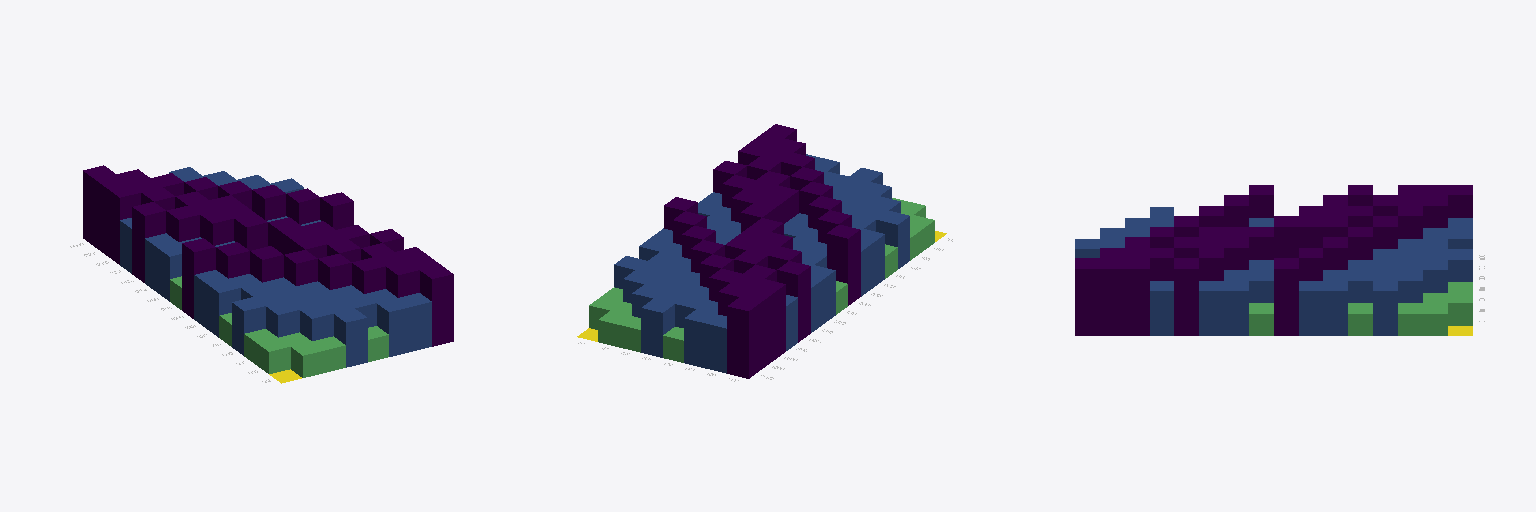
3 views of the same model, side by side, from view 1: azimuth 30°, elevation 25°; view 2: azimuth 150°, elevation 25°; view 3: azimuth 270°, elevation 25° (orthographic).
Parts seen in each view (by area): view 1: Object(8,16)[length_3], Object(1,5)[length_3], Object(1,9)[length_3], Object(6,16)[length_2], Object(4,16)[length_2], Object(1,3)[length_3], Object(1,13)[length_2], Object(7,16)[length_2], Object(1,11)[length_2], Object(1,7)[length_2], Object(1,1)[length_3], Object(1,2)[length_3] (+26 smaller); view 2: Object(1,1)[length_3], Object(1,9)[length_3], Object(5,1)[length_2], Object(1,5)[length_3], Object(3,1)[length_2], Object(1,13)[length_2], Object(1,2)[length_3], Object(2,1)[length_2], Object(1,3)[length_3], Object(1,7)[length_2], Object(7,1)[length_1], Object(1,11)[length_2] (+28 smaller); view 3: Object(8,8)[length_3], Object(8,12)[length_3], Object(8,14)[length_3], Object(8,15)[length_3], Object(8,16)[length_3], Object(8,4)[length_2], Object(8,6)[length_2], Object(8,10)[length_2], Object(8,11)[length_2], Object(8,7)[length_2], Object(8,13)[length_2], Object(4,8)[length_3] (+28 smaller).
Boxes of the visible parts, <box> form: Object(8,16)[length_3]: <box>420,265,453,346</box>; Object(1,5)[length_3]: <box>132,202,165,282</box>; Object(1,9)[length_3]: <box>182,238,215,318</box>; Object(6,16)[length_2]: <box>377,298,410,356</box>; Object(4,16)[length_2]: <box>334,309,367,367</box>; Object(1,3)[length_3]: <box>107,184,140,264</box>; Object(1,13)[length_2]: <box>232,297,265,355</box>; Object(7,16)[length_2]: <box>399,293,431,351</box>; Object(1,11)[length_2]: <box>207,279,240,337</box>; Object(1,7)[length_2]: <box>157,242,181,301</box>; Object(1,1)[length_3]: <box>83,165,115,246</box>; Object(1,2)[length_3]: <box>95,174,128,255</box>; Object(1,1)[length_3]: <box>727,297,760,378</box>; Object(1,9)[length_3]: <box>827,225,860,305</box>; Object(5,1)[length_2]: <box>641,299,674,357</box>; Object(1,5)[length_3]: <box>777,261,810,342</box>; Object(3,1)[length_2]: <box>684,309,717,368</box>; Object(1,13)[length_2]: <box>876,211,909,268</box>; Object(1,2)[length_3]: <box>741,288,773,369</box>; Object(2,1)[length_2]: <box>706,315,726,373</box>; Object(1,3)[length_3]: <box>753,279,785,359</box>; Object(1,7)[length_2]: <box>811,265,835,323</box>; Object(7,1)[length_1]: <box>598,311,630,347</box>; Object(1,11)[length_2]: <box>861,229,884,287</box>; Object(8,8)[length_3]: <box>1274,258,1298,335</box>; Object(8,12)[length_3]: <box>1174,258,1198,335</box>; Object(8,14)[length_3]: <box>1125,258,1149,335</box>; Object(8,15)[length_3]: <box>1100,258,1124,335</box>; Object(8,16)[length_3]: <box>1075,258,1099,335</box>; Object(8,4)[length_2]: <box>1373,281,1397,335</box>; Object(8,6)[length_2]: <box>1323,281,1347,335</box>; Object(8,10)[length_2]: <box>1224,281,1248,335</box>; Object(8,11)[length_2]: <box>1199,281,1223,335</box>; Object(8,7)[length_2]: <box>1299,281,1322,335</box>; Object(8,13)[length_2]: <box>1150,281,1173,335</box>; Object(4,8)[length_3]: <box>1274,216,1298,257</box>.
Size of the model in its own units: 8.84 by 3 by 16.5.